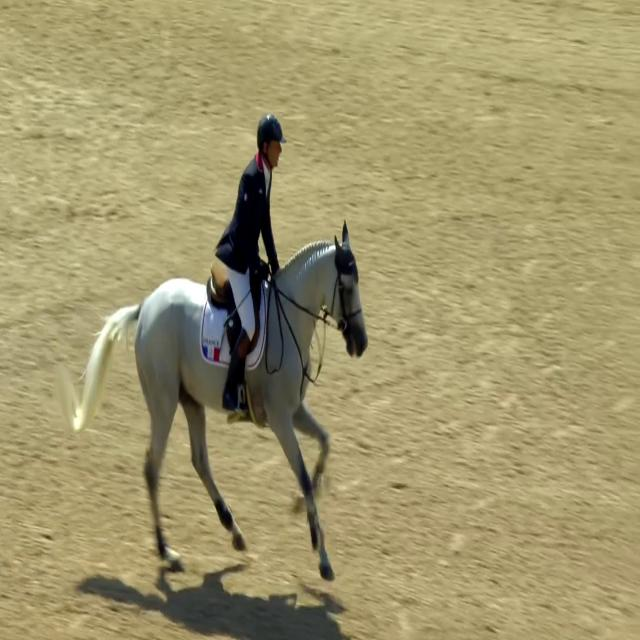Horse Rider: (208, 101, 291, 418)
Horse Running: (66, 198, 378, 603)
